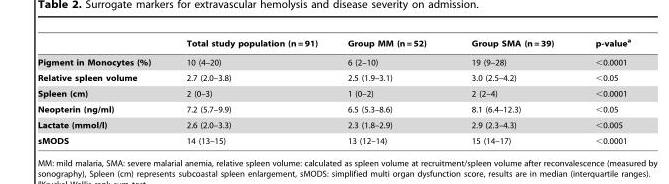table: (37, 37, 630, 145)
table column: (168, 37, 332, 145), (37, 37, 168, 145), (448, 37, 574, 145), (332, 37, 448, 145), (574, 37, 630, 145)
table column header: (37, 37, 630, 52)
table row: (37, 52, 630, 69), (37, 69, 630, 85), (37, 85, 630, 101), (37, 101, 630, 117), (37, 37, 630, 52), (37, 117, 630, 132), (37, 132, 630, 145)
